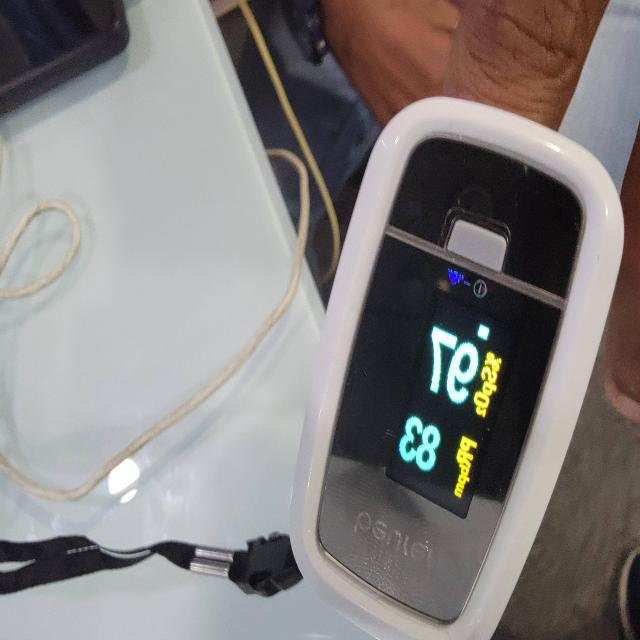spo2: (288, 97, 626, 640)
